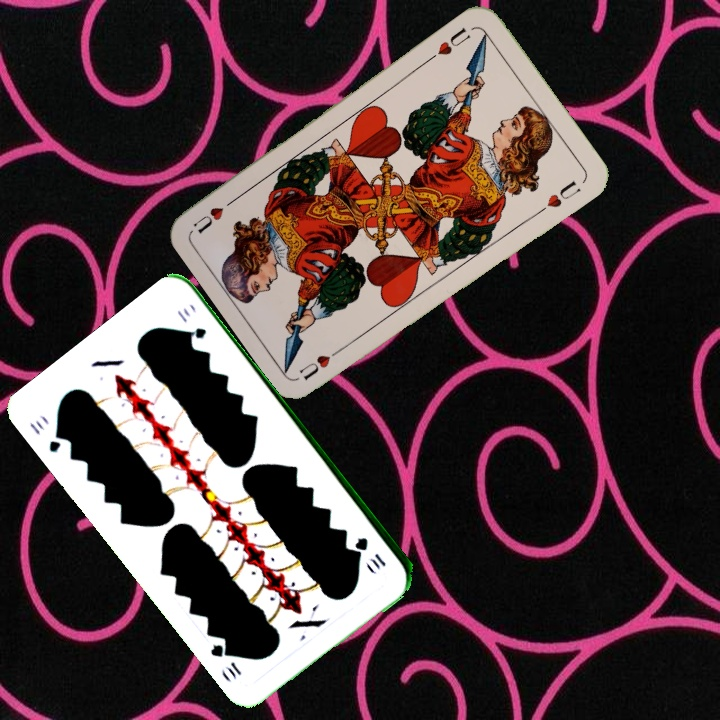G10: (25, 416, 69, 455), (352, 533, 389, 571)
HU: (295, 342, 348, 383), (425, 23, 474, 63)
